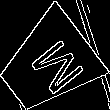M_SW: (15, 31, 81, 98)
